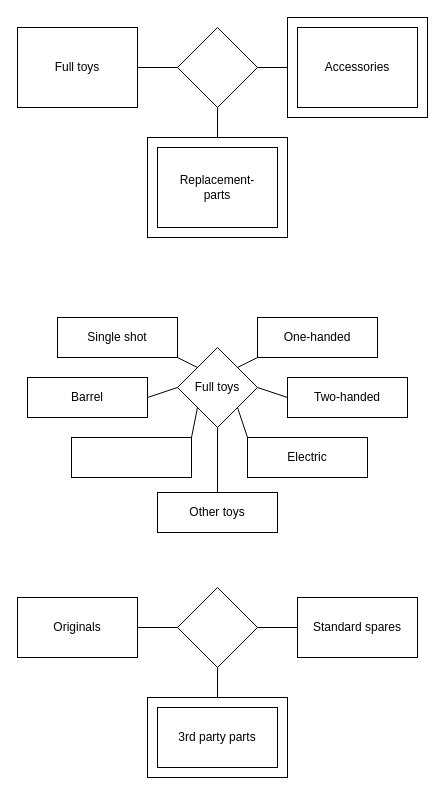
This 445x795 diagram has some shape labels left out. Each missing label, with the box of its shape:
Automatic: (70, 436, 192, 478)
Blaster Master: (176, 26, 258, 108)
Replace- mentparts: (176, 586, 258, 668)
